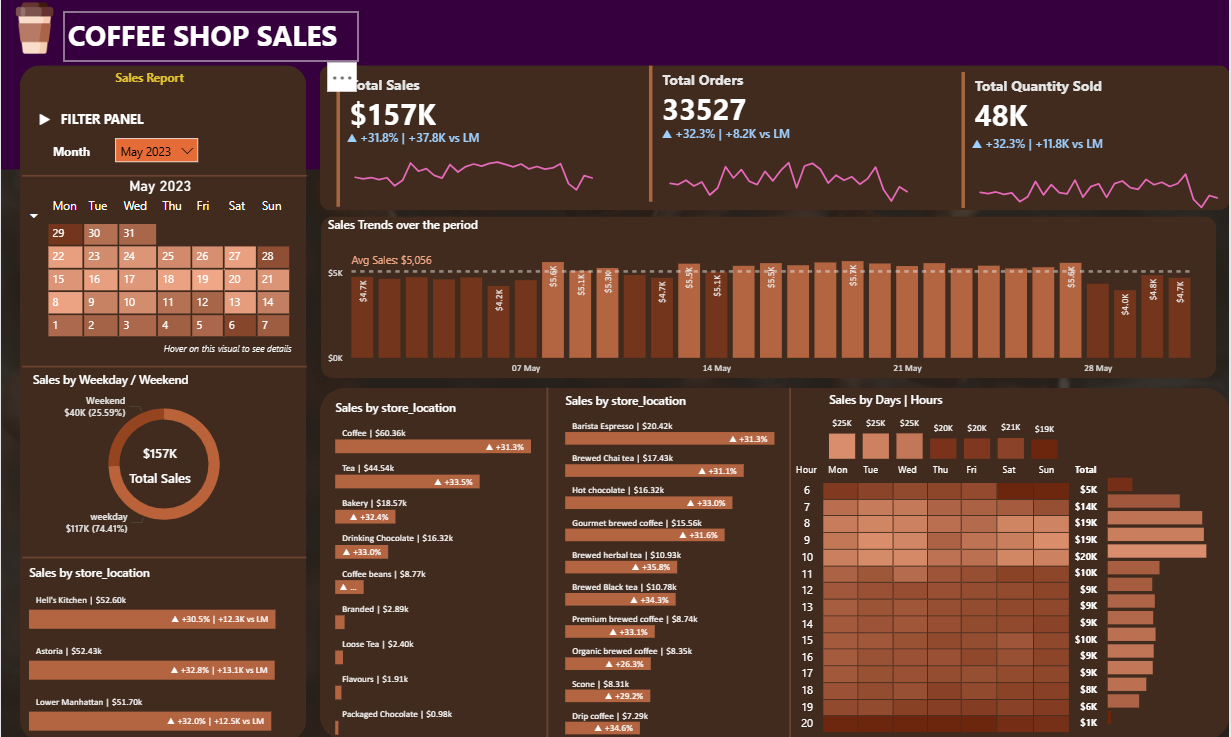

Layout of this report page (visuals, bound fields, positions):
{"tool":"powerbi","page":{"name":"Page 1","canvas":[1400,850],"ordinal":0},"visuals":[{"type":"shape","box":[0,0,1400,200],"z":0},{"type":"shape","box":[21.7,80.8,326.7,769.2],"z":1000},{"type":"shape","box":[363.2,81.2,1036.9,165.2],"z":2000},{"type":"textbox","box":[54.5,165.5,74.5,28.2],"z":3000},{"type":"cardVisual","fields":{"Data":["Transactions.Toatl Orders"]},"box":[732.8,77.5,300,165],"z":4000,"group":"g2"},{"type":"cardVisual","fields":{"Data":["Transactions.Total Sales"]},"box":[377.8,82.2,300,165],"z":4000,"group":"g1"},{"type":"cardVisual","fields":{"Data":["Transactions.Total Quantity Sold"]},"box":[1089.3,83.8,300,165],"z":4000,"group":"g3"},{"type":"slicer","fields":{"Values":["Date Table.Month Year"]},"box":[125.7,160,104.3,37.1],"z":4000},{"type":"group","id":"g1","title":"Group 1","box":[377.8,82.2,311.1,165.6],"z":5000},{"type":"group","id":"g2","title":"Group 1","box":[732.8,77.5,313.6,166.4],"z":6000},{"type":"lineChart","fields":{"Category":["Date Table.Date.Variation.Date Hierarchy.Year","Date Table.Date.Variation.Date Hierarchy.Quarter","Date Table.Date.Variation.Date Hierarchy.Month","Date Table.Date.Variation.Date Hierarchy.Day"],"Y":["Transactions.Total Orders"]},"box":[746.4,150.6,300,93.3],"z":6000,"group":"g2"},{"type":"lineChart","fields":{"Y":["Transactions.Total Sales"],"Category":["Date Table.Date.Variation.Date Hierarchy.Year","Date Table.Date.Variation.Date Hierarchy.Quarter","Date Table.Date.Variation.Date Hierarchy.Month","Date Table.Date.Variation.Date Hierarchy.Day"]},"box":[388.9,152.8,300,93.3],"z":6000,"group":"g1"},{"type":"lineChart","fields":{"Category":["Date Table.Date.Variation.Date Hierarchy.Year","Date Table.Date.Variation.Date Hierarchy.Quarter","Date Table.Date.Variation.Date Hierarchy.Month","Date Table.Date.Variation.Date Hierarchy.Day"],"Y":["Transactions.Total Quantity Sold"]},"box":[1100,160.6,300,93.3],"z":6000,"group":"g3"},{"type":"group","id":"g3","title":"Group 1","box":[1089.3,83.8,310.7,170.1],"z":7000},{"type":"pivotTable","fields":{"Rows":["Date Table.Week Number"],"Columns":["Date Table.Day Name"],"Values":["Min(Date Table.Day Number)"]},"box":[22.3,223.8,326.2,201.5],"z":8000},{"type":"card","fields":{"Values":["Min(Date Table.Month Year)"]},"box":[126.2,191.5,110,57.7],"z":9000},{"type":"card","fields":{"Values":["Transactions.Foot Note"]},"box":[140,387.7,237.7,37.7],"z":10000},{"type":"shape","box":[24.5,404.5,324.5,40],"z":11000},{"type":"shape","box":[23.6,178.2,324.5,58.2],"z":12000},{"type":"donutChart","title":" Sales by Weekday / Weekend","fields":{"Category":["Date Table.Weekday / Weekend"],"Y":["Transactions.Total Sales"]},"box":[30.8,430.8,309.2,193.8],"z":13000},{"type":"card","fields":{"Values":["Transactions.Total Sales"]},"box":[91.5,493.8,180,83.1],"z":14000},{"type":"clusteredBarChart","title":"Sales by store_location","fields":{"Category":["Transactions.store_location"],"Y":["Transactions.PlaceHolder","Transactions.Total Sales"]},"box":[27.3,649.1,316.4,198.2],"z":15000},{"type":"shape","box":[24.5,624.5,323.6,33.6],"z":16000},{"type":"shape","box":[364,254,1020,184],"z":17000},{"type":"columnChart","title":"Sales Trends over the period","fields":{"Y":["Transactions.Total Sales"],"Category":["Transactions.transaction_date"]},"box":[368,254,997,199],"z":18000},{"type":"shape","box":[363.3,448.3,1036.7,401.7],"z":19000},{"type":"clusteredBarChart","title":"Sales by store_location","fields":{"Y":["Transactions.PlaceHolder","Transactions.Total Sales"],"Category":["Transactions.product_category"]},"box":[376.7,461.7,261.7,388.3],"z":20000},{"type":"shape","box":[606.7,448.3,31.7,401.7],"z":21000},{"type":"clusteredBarChart","title":"Sales by store_location","fields":{"Y":["Transactions.PlaceHolder","Transactions.Total Sales"],"Category":["Transactions.product_type"]},"box":[638.3,455,280,395],"z":22000},{"type":"shape","box":[883.3,448.9,32.2,401.1],"z":23000},{"type":"pivotTable","fields":{"Rows":["Transactions.Hour"],"Columns":["Date Table.Day Name"],"Values":["Transactions.Total Sales"]},"box":[895.7,530,377.1,320],"z":24000},{"type":"barChart","fields":{"Category":["Transactions.Hour"],"Y":["Transactions.Total Sales"]},"box":[1255.6,538.9,124.4,298.9],"z":25000},{"type":"columnChart","title":" Sales by Days | Hours","fields":{"Y":["Transactions.Total Sales"],"Category":["Date Table.Day Name"]},"box":[938.6,452.9,271.4,82.9],"z":26000},{"type":"textbox","box":[71.4,20,335.7,57.1],"z":27000},{"type":"textbox","box":[125.5,81.8,97.3,32.7],"z":28000},{"type":"textbox","box":[39.1,127.3,172.7,38.2],"z":29000},{"type":"image","box":[4.3,0,68.6,77.1],"z":30000}]}

Visuals, with their boxes in screenshot pixels (x1, y1, x2, y2), scaled from the page's 1400x850 canvas onto the 1231x737 screenshot:
shape: l=0, t=0, r=1230, b=173
shape: l=19, t=70, r=306, b=736
shape: l=319, t=70, r=1230, b=214
textbox: l=48, t=143, r=113, b=168
cardVisual - Transactions.Toatl Orders: l=644, t=67, r=908, b=210
cardVisual - Transactions.Total Sales: l=332, t=71, r=596, b=214
cardVisual - Transactions.Total Quantity Sold: l=958, t=73, r=1222, b=216
slicer - Date Table.Month Year: l=111, t=139, r=202, b=171
"Group 1" group: l=332, t=71, r=606, b=215
"Group 1" group: l=644, t=67, r=920, b=211
lineChart - Date Table.Date.Variation.Date Hierarchy.Year x Date Table.Date.Variation.Date Hierarchy.Quarter: l=656, t=131, r=920, b=211
lineChart - Transactions.Total Sales x Date Table.Date.Variation.Date Hierarchy.Year: l=342, t=132, r=606, b=213
lineChart - Date Table.Date.Variation.Date Hierarchy.Year x Date Table.Date.Variation.Date Hierarchy.Quarter: l=967, t=139, r=1230, b=220
"Group 1" group: l=958, t=73, r=1230, b=220
pivotTable - Date Table.Week Number x Date Table.Day Name: l=20, t=194, r=306, b=369
card - Min(Date Table.Month Year): l=111, t=166, r=208, b=216
card - Transactions.Foot Note: l=123, t=336, r=332, b=369
shape: l=22, t=351, r=307, b=385
shape: l=21, t=155, r=306, b=205
" Sales by Weekday / Weekend" donutChart: l=27, t=374, r=299, b=542
card - Transactions.Total Sales: l=80, t=428, r=239, b=500
"Sales by store_location" clusteredBarChart: l=24, t=563, r=302, b=735
shape: l=22, t=541, r=306, b=571
shape: l=320, t=220, r=1217, b=380
"Sales Trends over the period" columnChart: l=324, t=220, r=1200, b=393
shape: l=319, t=389, r=1230, b=736
"Sales by store_location" clusteredBarChart: l=331, t=400, r=561, b=736
shape: l=533, t=389, r=561, b=736
"Sales by store_location" clusteredBarChart: l=561, t=395, r=807, b=736
shape: l=777, t=389, r=805, b=736
pivotTable - Transactions.Hour x Date Table.Day Name: l=788, t=460, r=1119, b=736
barChart - Transactions.Hour x Transactions.Total Sales: l=1104, t=467, r=1213, b=726
" Sales by Days | Hours" columnChart: l=825, t=393, r=1064, b=465
textbox: l=63, t=17, r=358, b=67
textbox: l=110, t=71, r=196, b=99
textbox: l=34, t=110, r=186, b=143
image: l=4, t=0, r=64, b=67
